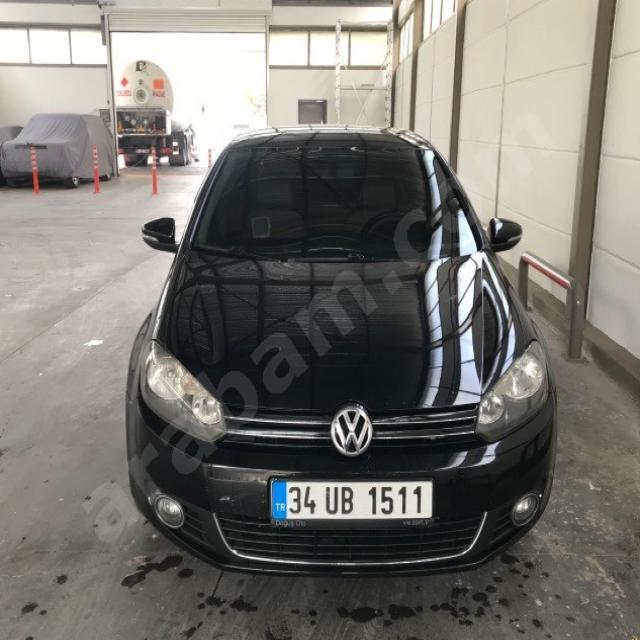license_plate: (270, 479, 434, 519)
